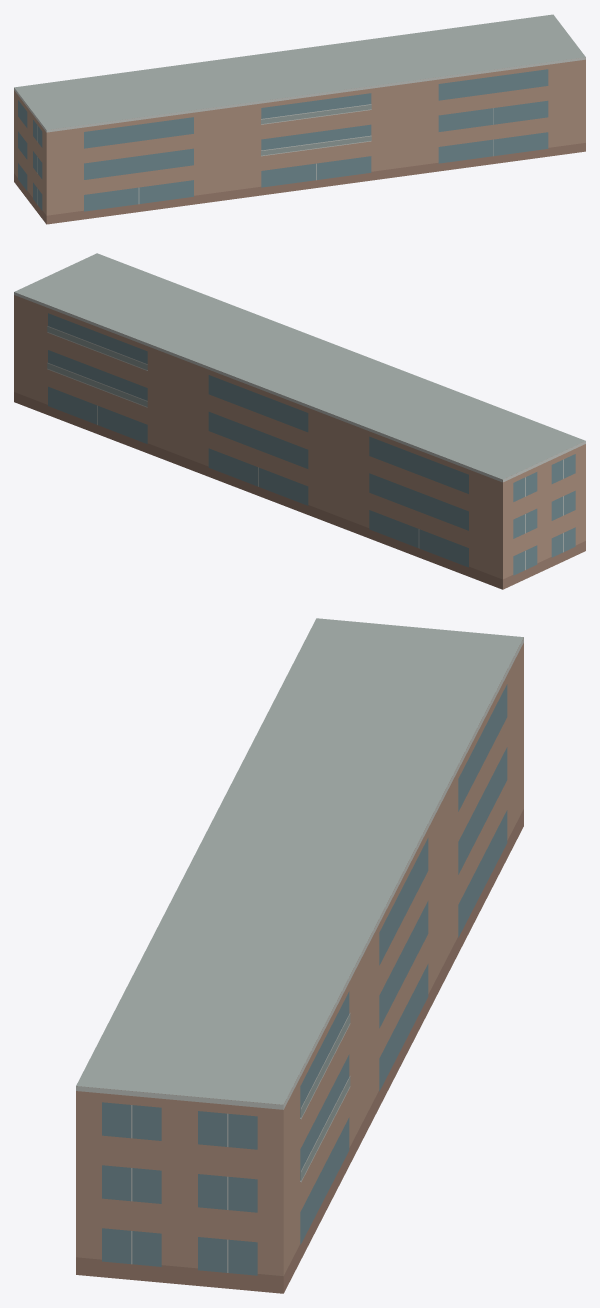
The model's file is survey-upis-32912599.glb.
3 views of the same model, one above another, from view 1: azimuth 30°, elevation 25°; view 2: azimuth 150°, elevation 25°; view 3: azimuth 270°, elevation 25° (orthographic). The views are drawn at different scales.
Visible parts, largest first — view 1: survey-upis-32912599.tmp; view 2: survey-upis-32912599.tmp; view 3: survey-upis-32912599.tmp.
Part boxes in pixels (x1,y1,x2,y2): survey-upis-32912599.tmp: [14, 14, 585, 224]; survey-upis-32912599.tmp: [14, 253, 585, 589]; survey-upis-32912599.tmp: [76, 618, 523, 1293].
Size of the model in its own units: 50.56 by 9.15 by 19.68.
